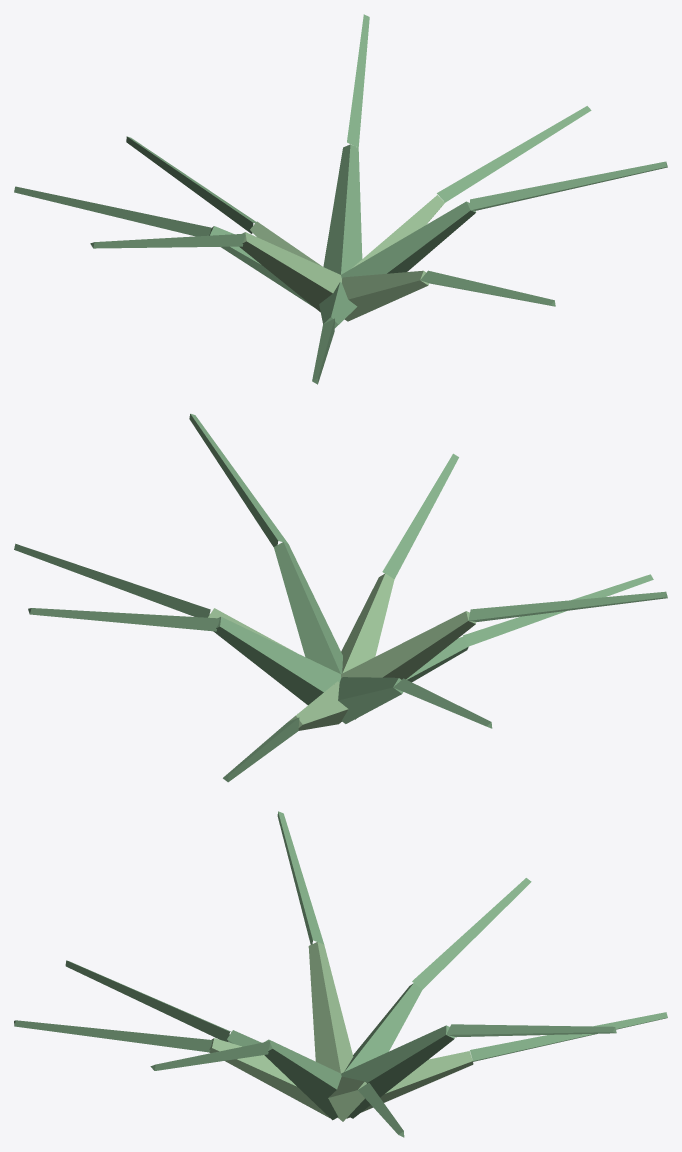
The model's file is fern_v35.glb.
3 views of the same model, one above another, from view 1: azimuth 30°, elevation 25°; view 2: azimuth 150°, elevation 25°; view 3: azimuth 270°, elevation 25° (orthographic). The views are drawn at different scales.
Visible parts, largest first — view 1: lod0; view 2: lod0; view 3: lod0.
Boxes of the visible parts, x1,y1,x2,y2 form: lod0: [14, 14, 667, 384]; lod0: [14, 413, 667, 782]; lod0: [14, 811, 667, 1137].
Size of what is drawn, in the model's own units: 0.9851 by 0.2839 by 0.9851.
